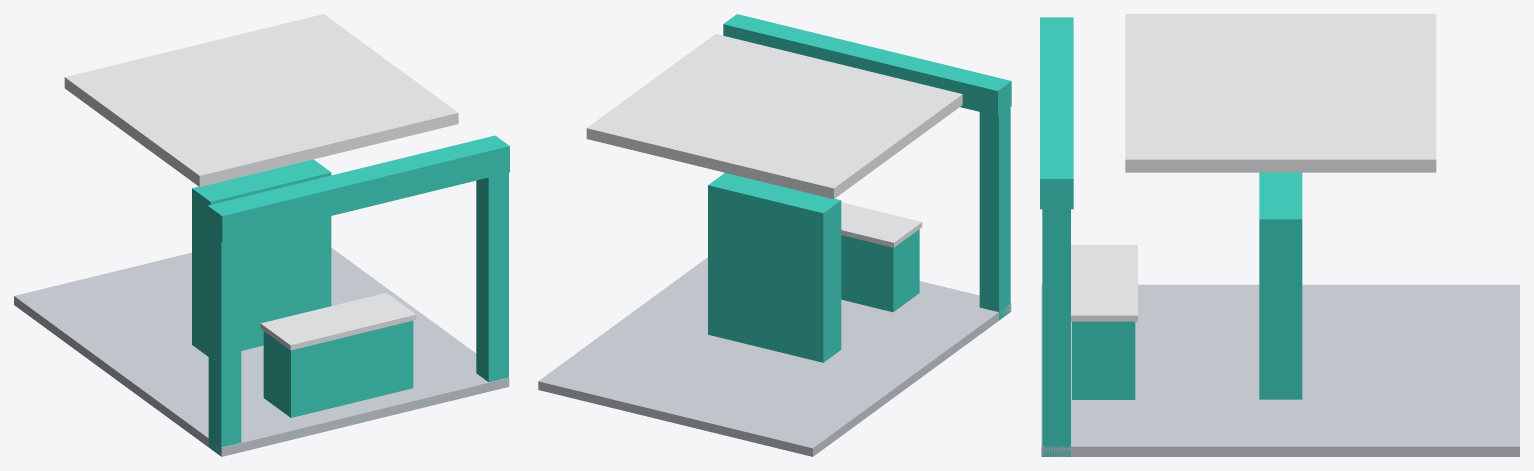
3 views of the same model, side by side, from view 1: azimuth 30°, elevation 25°; view 2: azimuth 150°, elevation 25°; view 3: azimuth 270°, elevation 25° (orthographic). The views are drawn at different scales.
Visible parts, largest first — view 1: Exhibition Booth Concept; view 2: Exhibition Booth Concept; view 3: Exhibition Booth Concept.
Part boxes in pixels (x1=…): Exhibition Booth Concept: x1=14, y1=14, x2=509, y2=456; Exhibition Booth Concept: x1=538, y1=14, x2=1011, y2=456; Exhibition Booth Concept: x1=1040, y1=14, x2=1519, y2=456.
Size of the model in its own units: 4 by 3.34 by 5.02.
